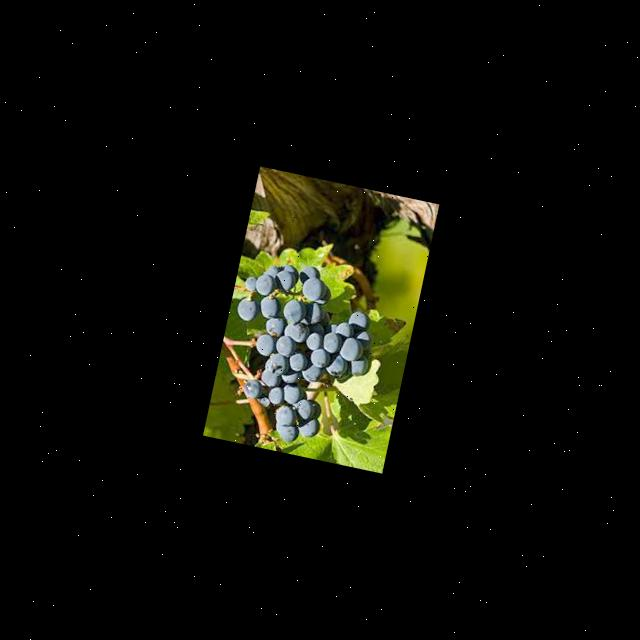grape: (209, 252, 385, 456)
